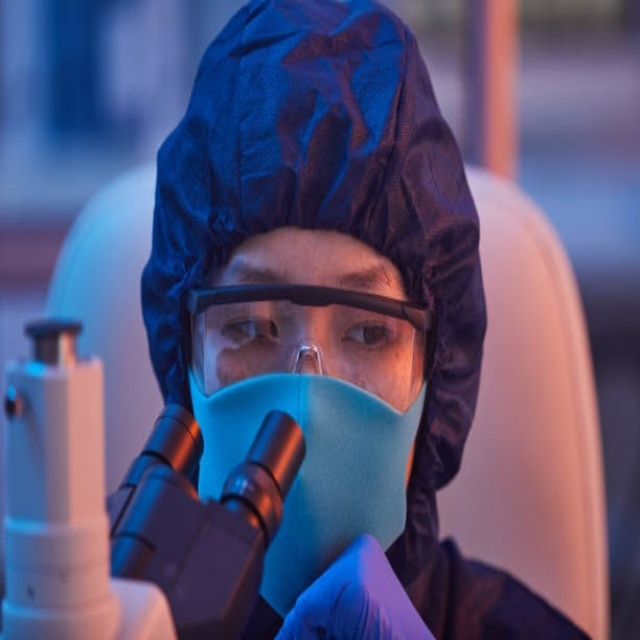Gafas: (184, 283, 436, 407)
Guantes: (265, 531, 446, 640)
Mascara: (188, 361, 430, 623)
